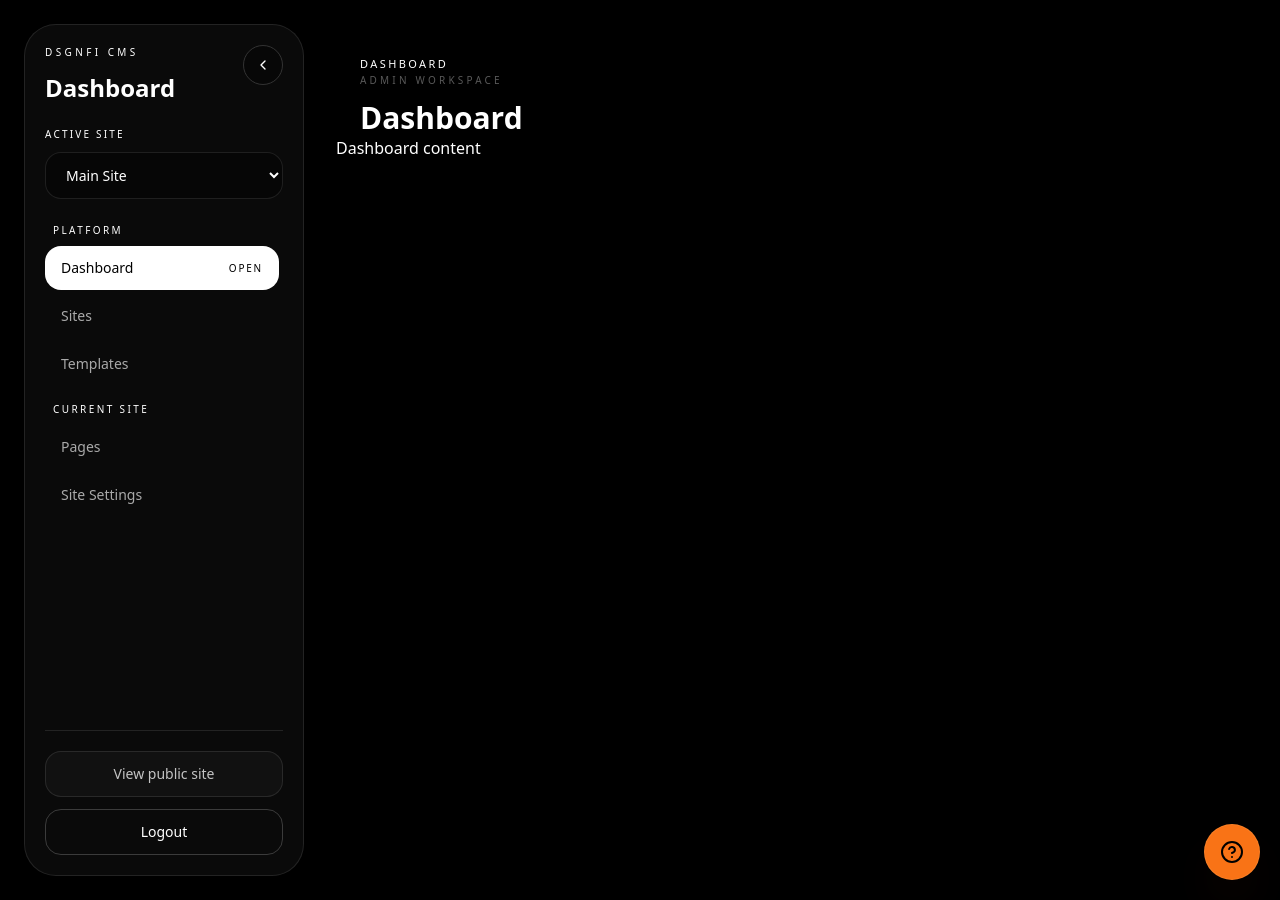
Test: AdminShell › shows a restrained error when OpenAI is not configured
Click the button named "Open AI admin guide". click: coordinates (1232, 852)
box: left=1204, top=824, right=1260, bottom=880
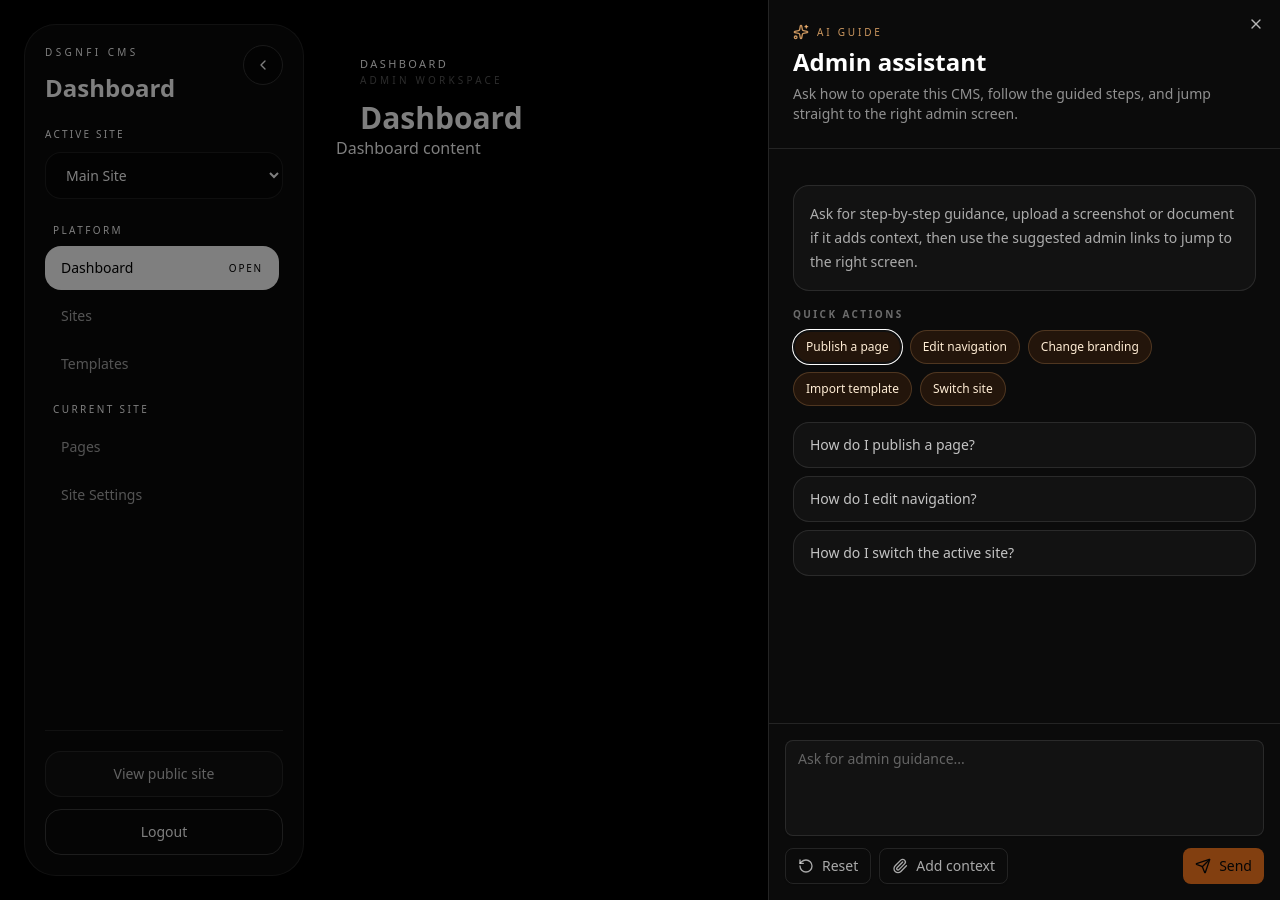
Click the button "How do I edit navigation?". click: coordinates (893, 498)
box: left=793, top=476, right=1256, bottom=522
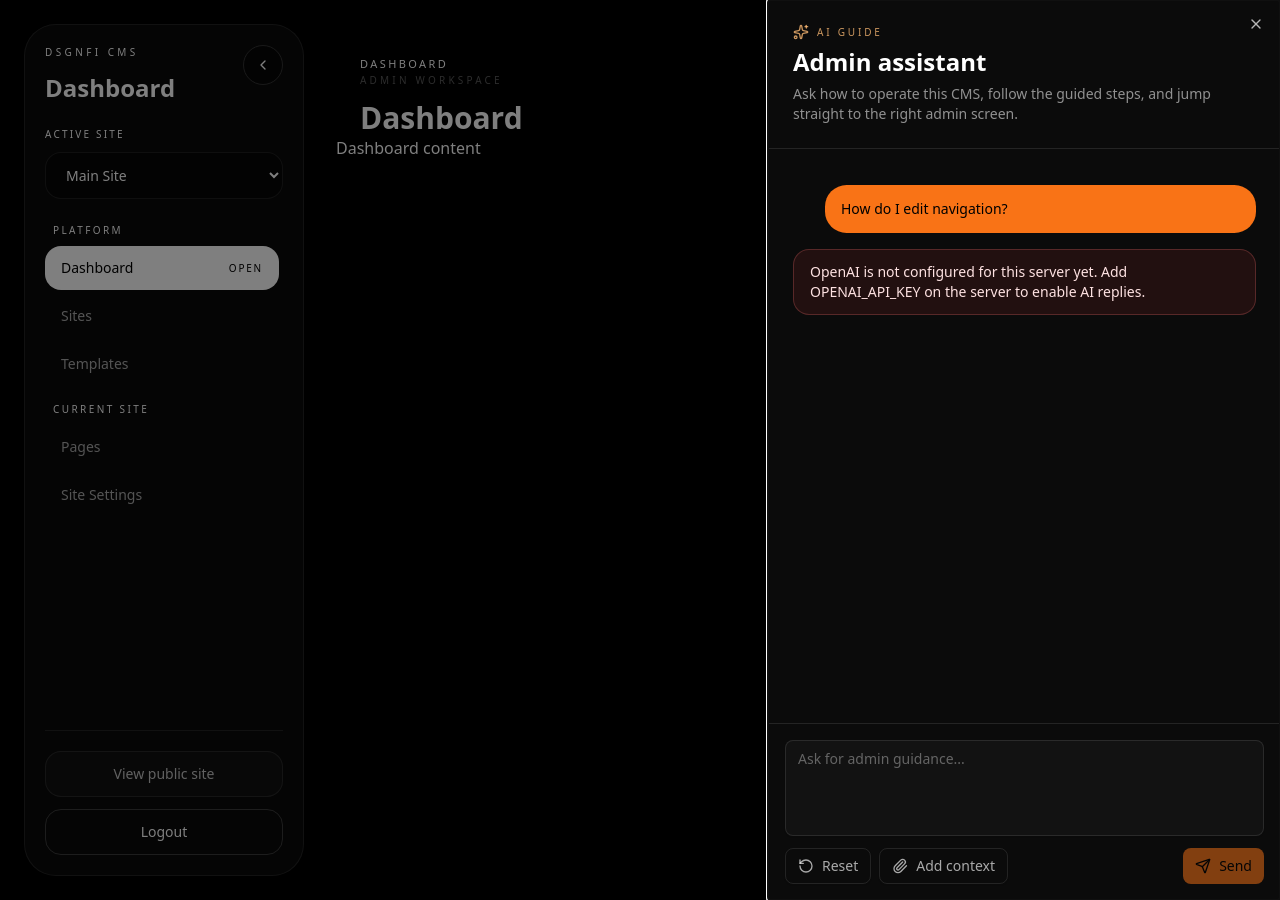
Expected: the text "OpenAI is not configured for this server yet" is shown, left=810, top=262, right=1145, bottom=301
